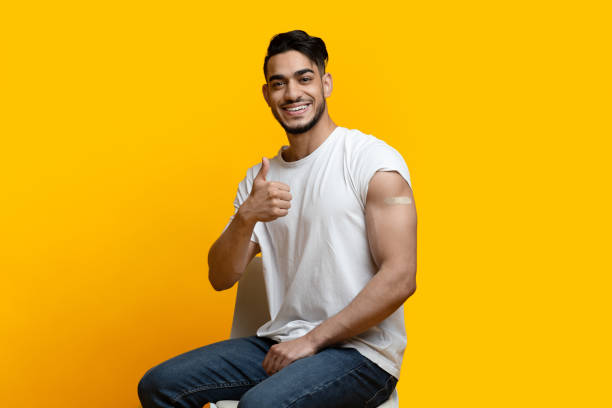person: (259, 27, 334, 140)
